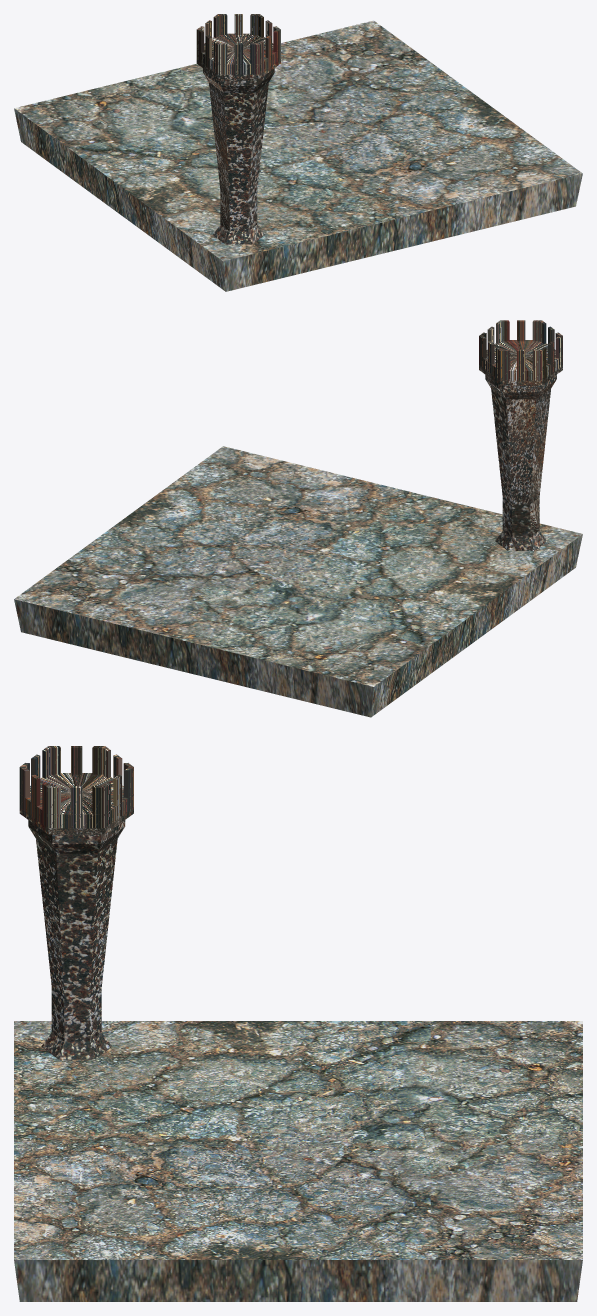
File: Platform_Torch.obj
The picture shows the model from 3 angles, top to bottom: view 1: azimuth 30°, elevation 25°; view 2: azimuth 150°, elevation 25°; view 3: azimuth 270°, elevation 25°; orthographic projection. The views are drawn at different scales.
Parts seen in each view (by area): view 1: platform_Cube.001, torch_Cylinder.001; view 2: platform_Cube.001, torch_Cylinder.001; view 3: platform_Cube.001, torch_Cylinder.001.
Boxes of the visible parts, bbox=[...] form: platform_Cube.001: bbox=[14, 20, 582, 291]; torch_Cylinder.001: bbox=[196, 14, 280, 244]; platform_Cube.001: bbox=[14, 446, 582, 717]; torch_Cylinder.001: bbox=[479, 320, 562, 550]; platform_Cube.001: bbox=[14, 1021, 582, 1301]; torch_Cylinder.001: bbox=[19, 746, 133, 1059].
Bounding box in the file's own units: 3.82 × 2.43 × 3.85.
Materials: 2 (2 with a texture image).
